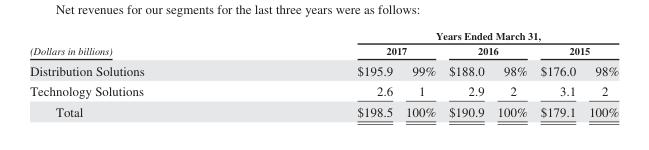table: (29, 28, 618, 118)
table column: (29, 28, 250, 118), (250, 28, 398, 118), (441, 28, 490, 118), (533, 28, 581, 118), (398, 28, 441, 118), (490, 28, 533, 118), (581, 28, 618, 118)
table column header: (29, 28, 618, 80)
table row: (29, 59, 618, 80), (29, 80, 618, 101), (29, 42, 618, 59), (29, 101, 618, 118), (29, 28, 618, 42)
table spanning cell: (29, 28, 250, 80), (250, 28, 618, 42), (250, 42, 441, 59), (441, 42, 533, 59), (533, 42, 618, 59)
